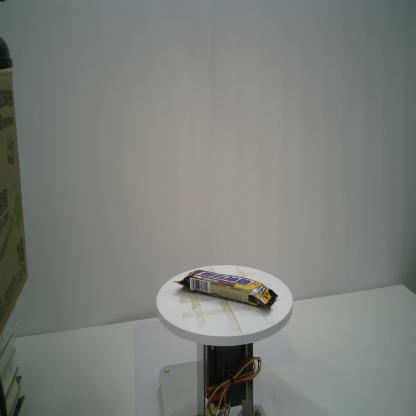Chocolate: (172, 269, 278, 310)
